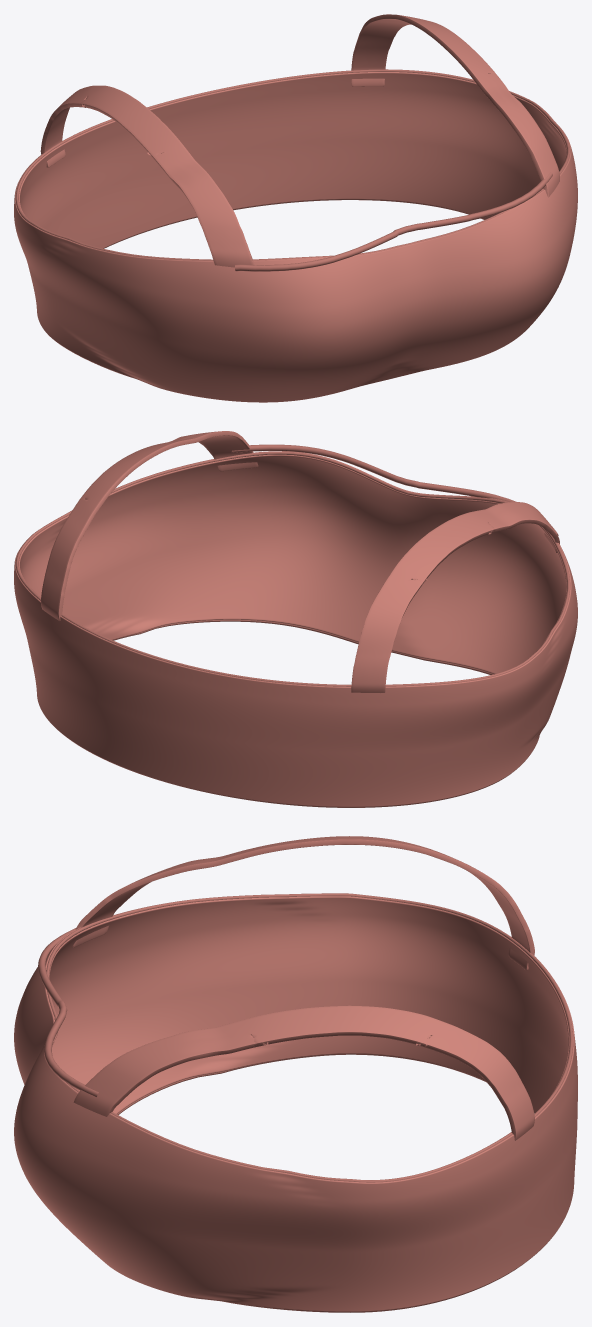
Rendered from Feminine-strappy-top.glb.
3 renders of one model, top to bottom at view 1: azimuth 30°, elevation 25°; view 2: azimuth 150°, elevation 25°; view 3: azimuth 270°, elevation 25°, orthographic. The views are drawn at different scales.
Parts seen in each view (by area): view 1: Clothing / strappy body, Clothing / strappy strap -1, Clothing / strappy strap 1, strappy body / bound edge.001 export, Crop / seated diagonal strap export, strappy body / bound edge export; view 2: Clothing / strappy body, Clothing / strappy strap -1, Clothing / strappy strap 1, strappy body / bound edge.001 export, Crop / seated diagonal strap export, strappy body / bound edge export; view 3: Clothing / strappy body, Clothing / strappy strap 1, Clothing / strappy strap -1, strappy body / bound edge.001 export, Crop / seated diagonal strap export, strappy body / bound edge export.
Part boxes in pixels (x1,y1,x2,y2): Clothing / strappy body: [14, 72, 577, 402]; Clothing / strappy strap -1: [40, 85, 254, 267]; Clothing / strappy strap 1: [351, 14, 559, 197]; strappy body / bound edge.001 export: [15, 69, 570, 260]; Crop / seated diagonal strap export: [234, 172, 552, 271]; strappy body / bound edge export: [66, 199, 484, 377]; Clothing / strappy body: [14, 451, 577, 807]; Clothing / strappy strap -1: [351, 502, 559, 692]; Clothing / strappy strap 1: [40, 431, 258, 620]; strappy body / bound edge.001 export: [15, 451, 570, 686]; Crop / seated diagonal strap export: [231, 444, 558, 535]; strappy body / bound edge export: [78, 619, 505, 807]; Clothing / strappy body: [14, 896, 577, 1311]; Clothing / strappy strap 1: [73, 1005, 534, 1140]; Clothing / strappy strap -1: [72, 836, 534, 970]; strappy body / bound edge.001 export: [46, 893, 573, 1182]; Crop / seated diagonal strap export: [38, 928, 98, 1096]; strappy body / bound edge export: [117, 1053, 515, 1312].
Bounding box in the file's own units: 0.6458 × 0.2862 × 0.5334.
